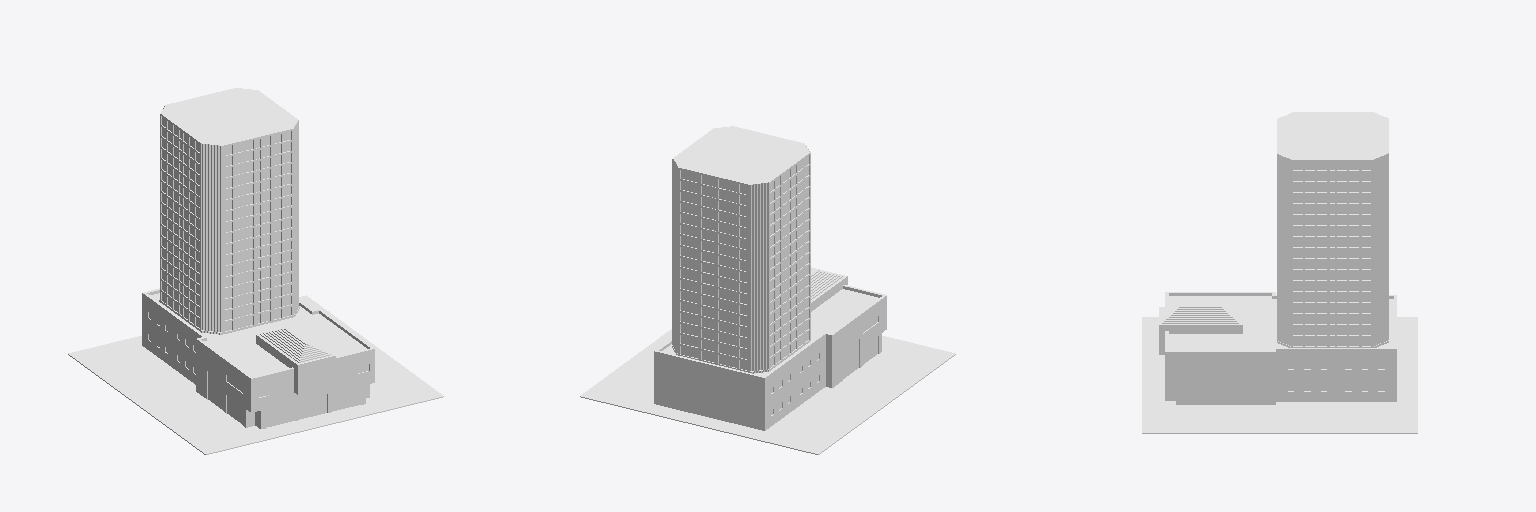
The model's file is SSp.obj.
The picture shows the model from 3 angles: view 1: azimuth 30°, elevation 25°; view 2: azimuth 150°, elevation 25°; view 3: azimuth 270°, elevation 25°; orthographic projection.
Visible parts, largest first — view 1: object 1; view 2: object 1; view 3: object 1.
Boxes of the visible parts, x1=… form: object 1: x1=68, y1=88, x2=443, y2=454; object 1: x1=580, y1=126, x2=955, y2=454; object 1: x1=1142, y1=112, x2=1417, y2=433.
Size of the model in its own units: 25 by 24 by 25.